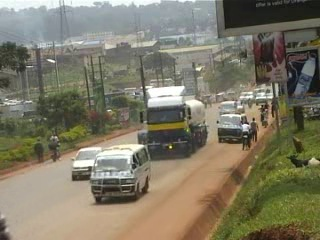Car: (68, 142, 107, 183), (134, 118, 146, 146), (239, 88, 255, 103), (253, 91, 267, 105), (235, 99, 246, 113)
Motorcycle: (245, 96, 254, 112)
